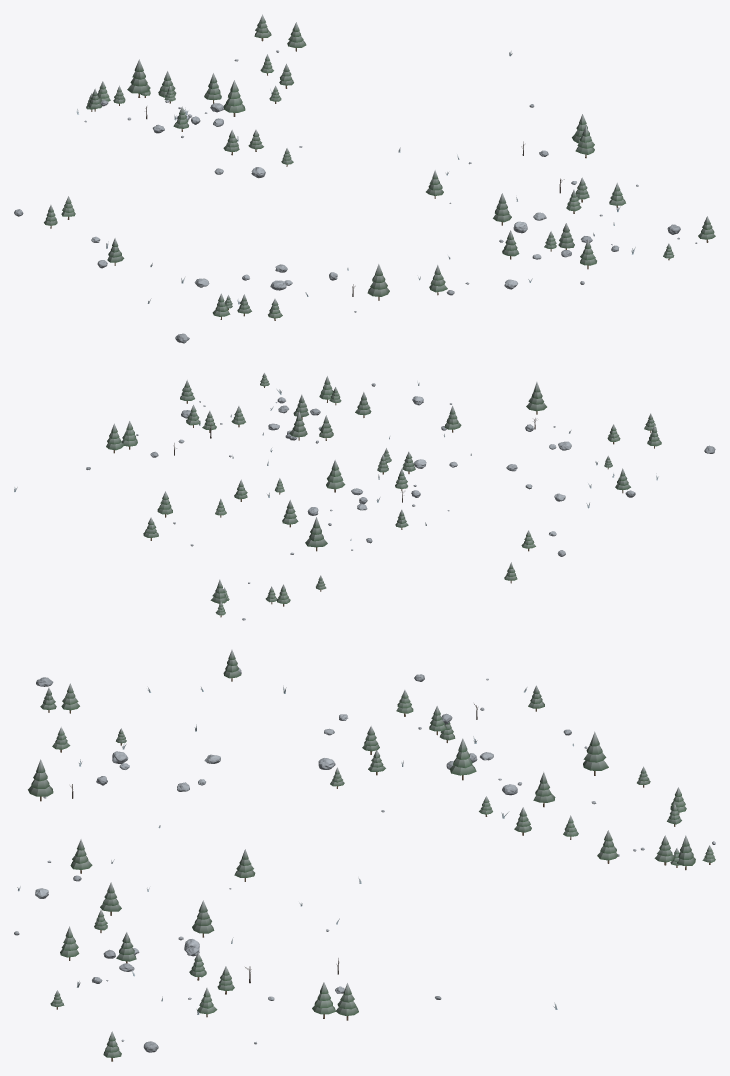
Rendered from frost_land_scatter_c21_09.glb.
3 renders of one model, top to bottom at view 1: azimuth 30°, elevation 25°; view 2: azimuth 150°, elevation 25°; view 3: azimuth 270°, elevation 25°, orthographic. The views are drawn at different scales.
Parts seen in each view (by area): view 1: frost_land_scatter_c21_09; view 2: frost_land_scatter_c21_09; view 3: frost_land_scatter_c21_09.
Part boxes in pixels (bbox=[...]): frost_land_scatter_c21_09: bbox=[14, 14, 715, 343]; frost_land_scatter_c21_09: bbox=[14, 373, 715, 620]; frost_land_scatter_c21_09: bbox=[14, 649, 715, 1061].
Bounding box in the file's own units: 259 × 55.79 × 243.
